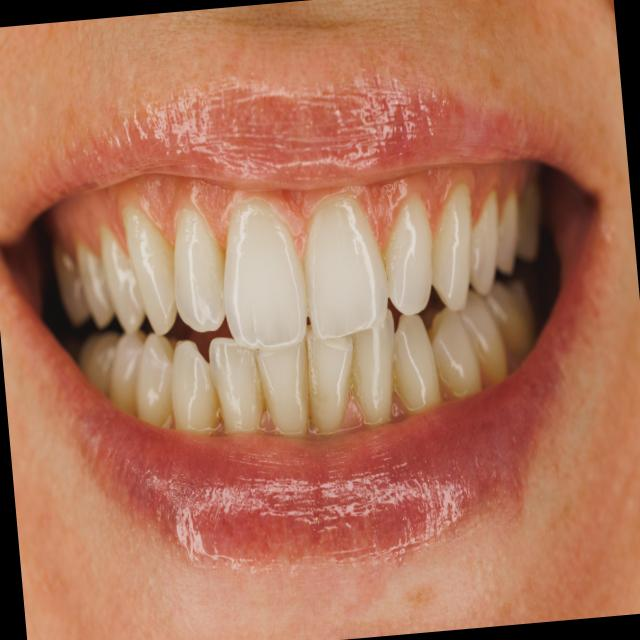Tooth: (222, 201, 307, 349), (304, 197, 388, 339), (122, 206, 177, 335), (174, 204, 225, 332), (383, 192, 433, 315), (304, 324, 354, 436), (256, 333, 310, 433), (208, 336, 262, 433), (99, 224, 145, 333), (351, 308, 394, 424), (432, 184, 471, 310), (428, 306, 481, 397), (393, 314, 441, 414), (455, 289, 506, 383), (171, 339, 221, 434), (135, 332, 174, 426), (74, 239, 115, 327), (104, 330, 146, 415), (469, 189, 498, 296)
